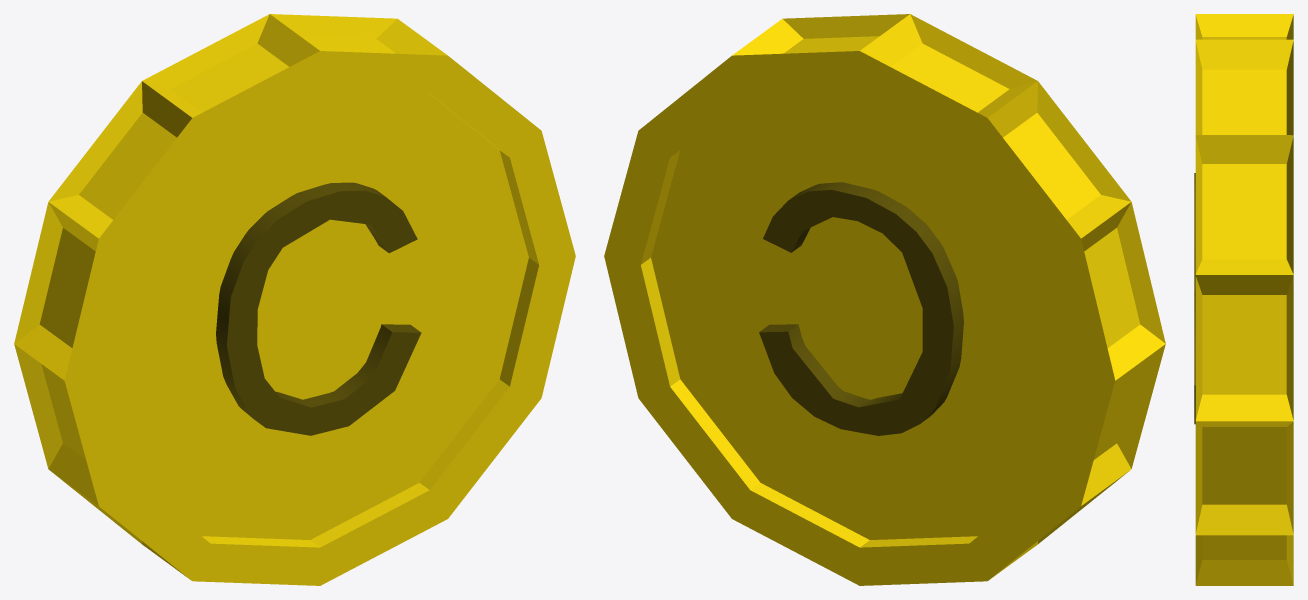
The model's file is mone.fbx.
The picture shows the model from 3 angles, left to right: view 1: azimuth 30°, elevation 25°; view 2: azimuth 150°, elevation 25°; view 3: azimuth 270°, elevation 25°; orthographic projection. The views are drawn at different scales.
Parts seen in each view (by area): view 1: moneda_export001_giroOK; view 2: moneda_export001_giroOK; view 3: moneda_export001_giroOK.
Part boxes in pixels (left/top/right/bottom): moneda_export001_giroOK: left=14, top=14, right=575, bottom=585; moneda_export001_giroOK: left=604, top=14, right=1165, bottom=585; moneda_export001_giroOK: left=1194, top=14, right=1293, bottom=585.
Size of the model in its own units: 0.5774 by 0.5774 by 0.1.
